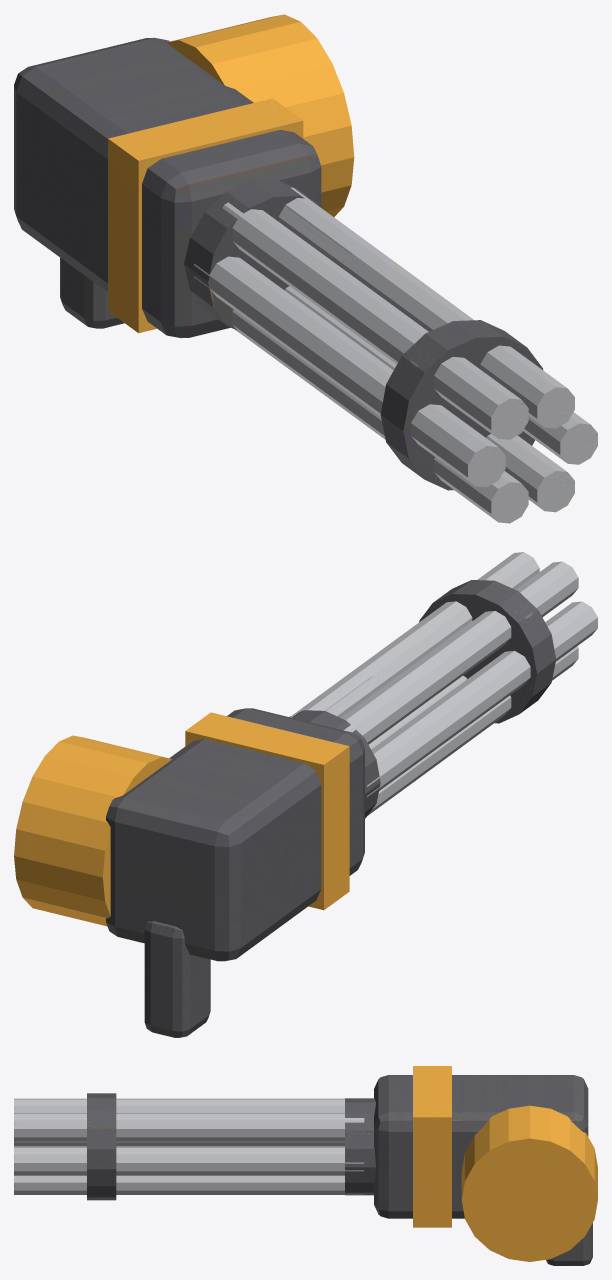
Rendered from minigun.glb.
3 renders of one model, top to bottom at view 1: azimuth 30°, elevation 25°; view 2: azimuth 150°, elevation 25°; view 3: azimuth 270°, elevation 25°, orthographic. The views are drawn at different scales.
Visible parts, largest first — view 1: Minigun, Barrels; view 2: Minigun, Barrels; view 3: Minigun, Barrels.
Part boxes in pixels (x1=…): Minigun: x1=14, y1=14, x2=354, y2=338; Barrels: x1=184, y1=179, x2=597, y2=523; Minigun: x1=14, y1=708, x2=364, y2=1037; Barrels: x1=289, y1=552, x2=597, y2=818; Minigun: x1=374, y1=1066, x2=597, y2=1265; Barrels: x1=14, y1=1093, x2=375, y2=1200.
Bounding box in the file's own units: 0.1925 × 0.2 × 0.6.
1 material, 1 textured.
